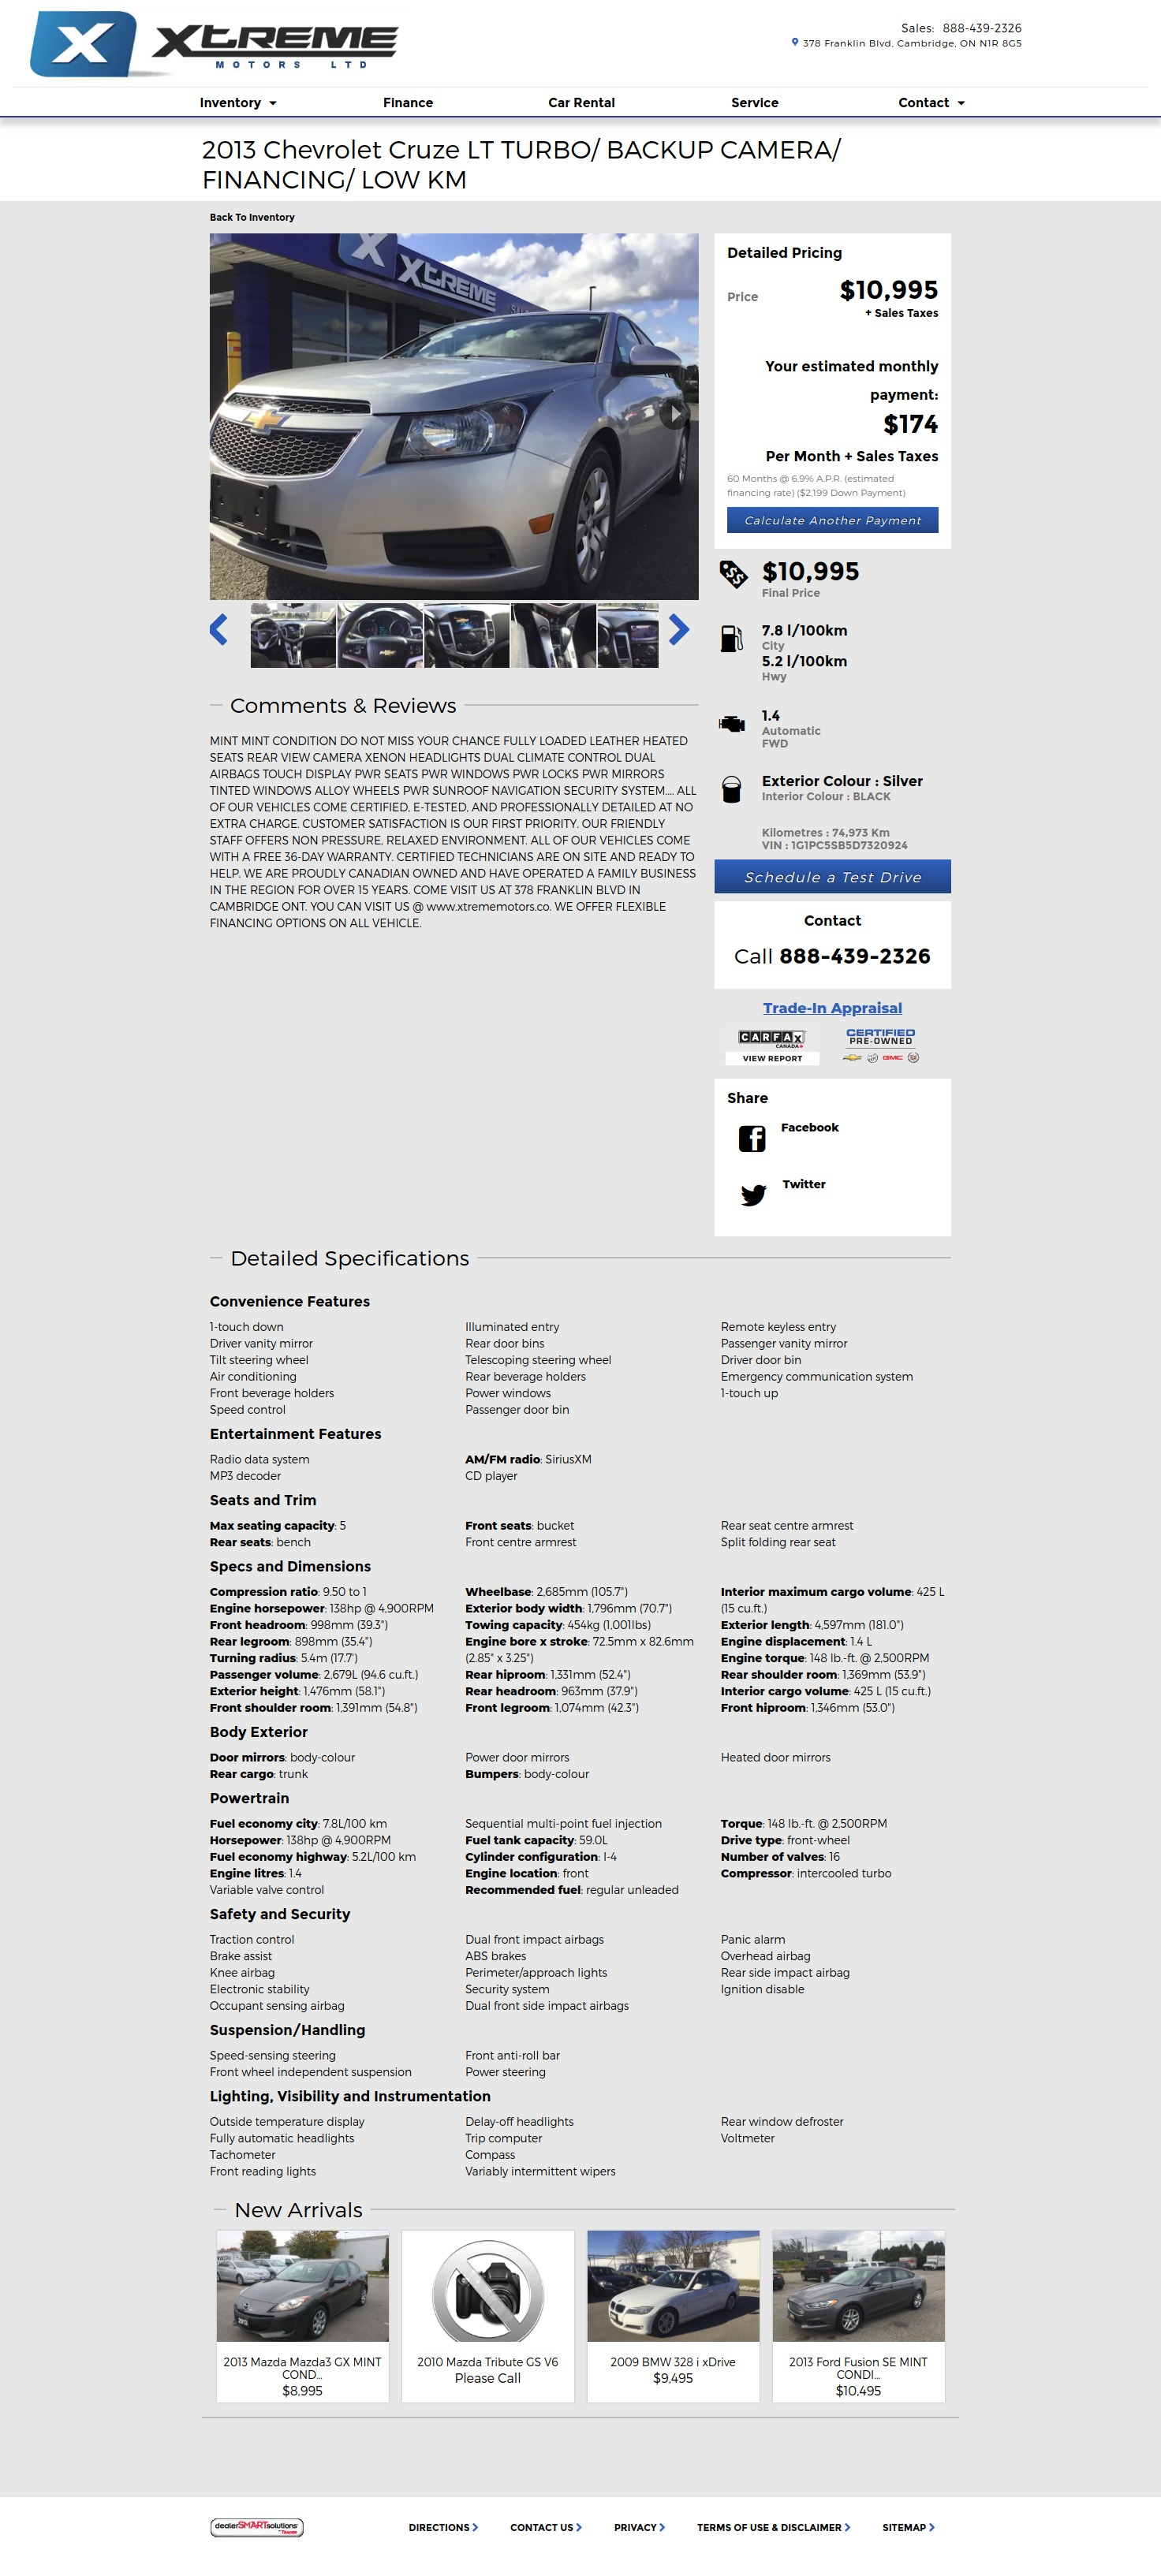car: (668, 613, 691, 647)
